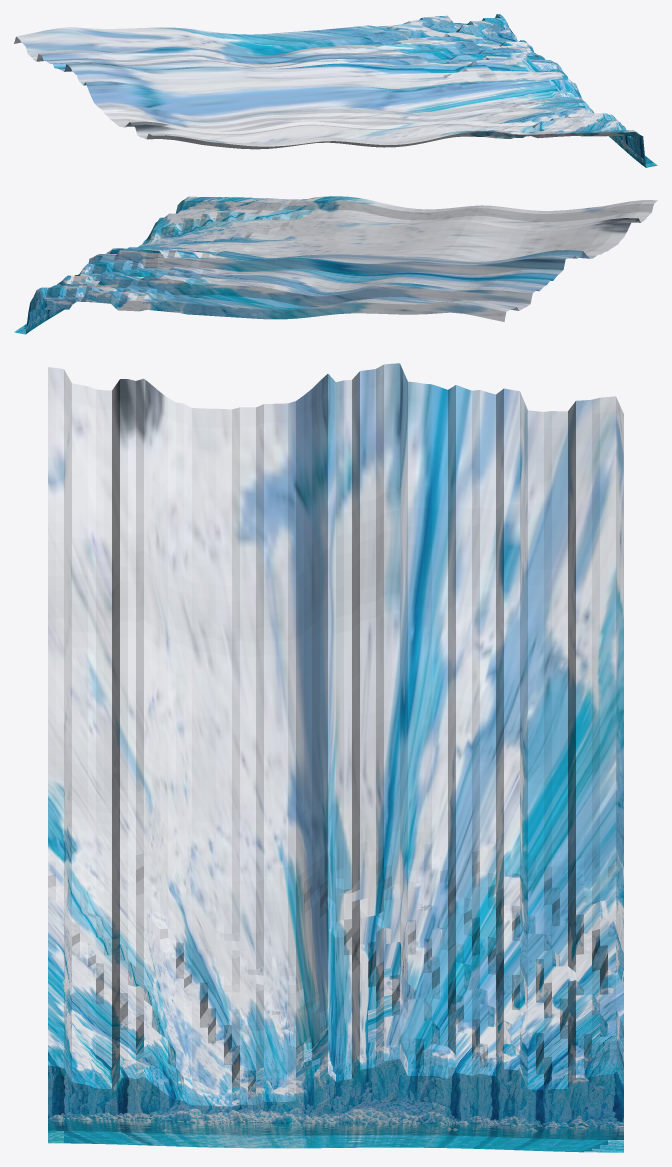
File: glacier-b.glb
The picture shows the model from 3 angles, top to bottom: view 1: azimuth 30°, elevation 25°; view 2: azimuth 150°, elevation 25°; view 3: azimuth 270°, elevation 25°; orthographic projection. The views are drawn at different scales.
Parts seen in each view (by area): view 1: Bank; view 2: Bank; view 3: Bank.
Boxes of the visible parts, bbox=[...] form: Bank: bbox=[14, 14, 657, 167]; Bank: bbox=[14, 196, 657, 334]; Bank: bbox=[48, 363, 623, 1152].
Bounding box in the file's own units: 241 × 70.26 × 120.
Materials: 3 (3 with a texture image).
